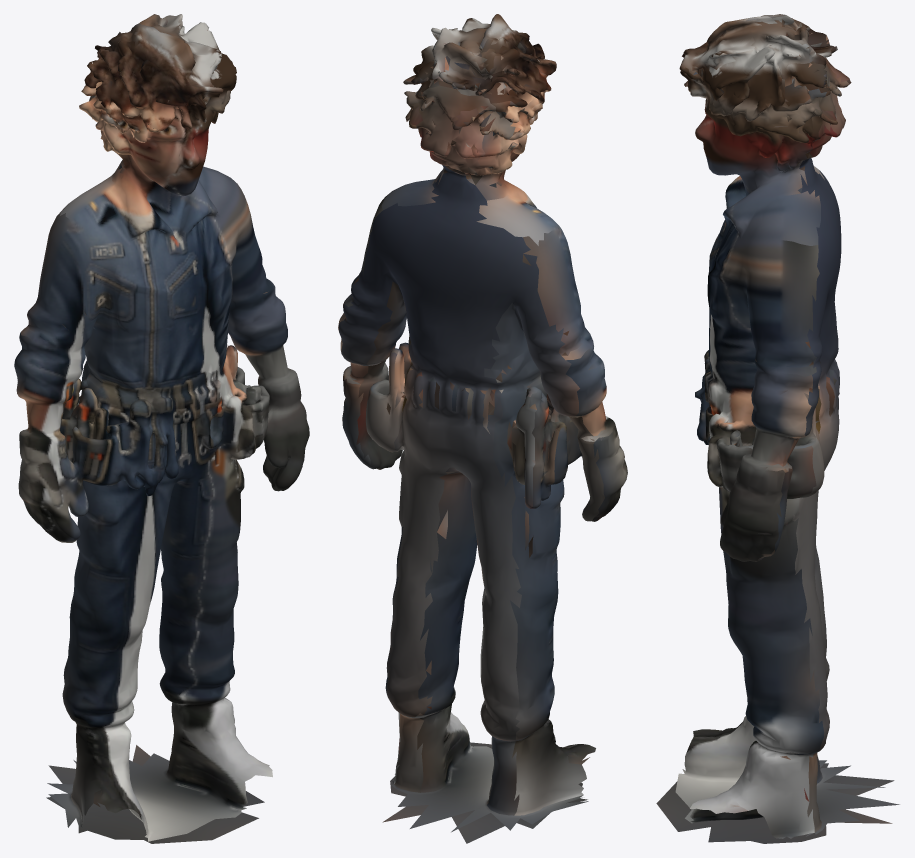
Rendered from elio.glb.
The picture shows the model from 3 angles, left to right: view 1: azimuth 30°, elevation 25°; view 2: azimuth 150°, elevation 25°; view 3: azimuth 270°, elevation 25°; orthographic projection. The views are drawn at different scales.
Visible parts, largest first — view 1: perso; view 2: perso; view 3: perso.
Boxes of the visible parts, x1,y1,x2,y2 form: perso: [14, 14, 309, 843]; perso: [338, 14, 627, 843]; perso: [656, 14, 899, 843].
Bounding box in the file's own units: 0.7506 × 1.98 × 0.5583.
Materials: 1 (1 with a texture image).
